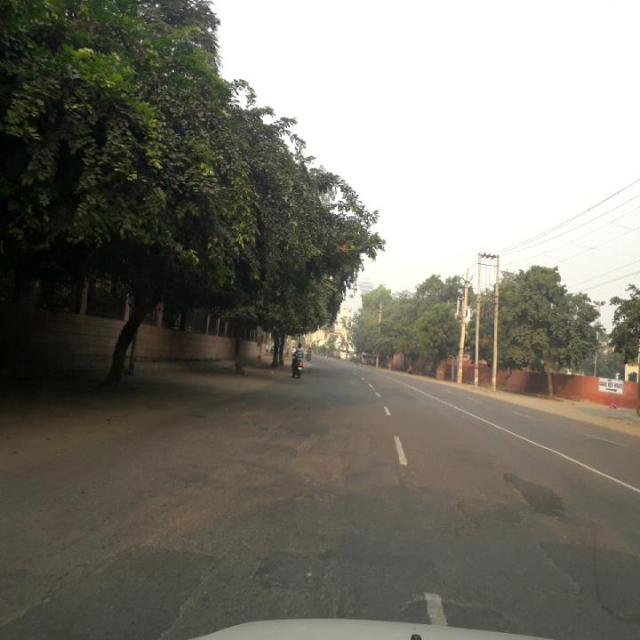Surface Erosion: (96, 374, 634, 640)
